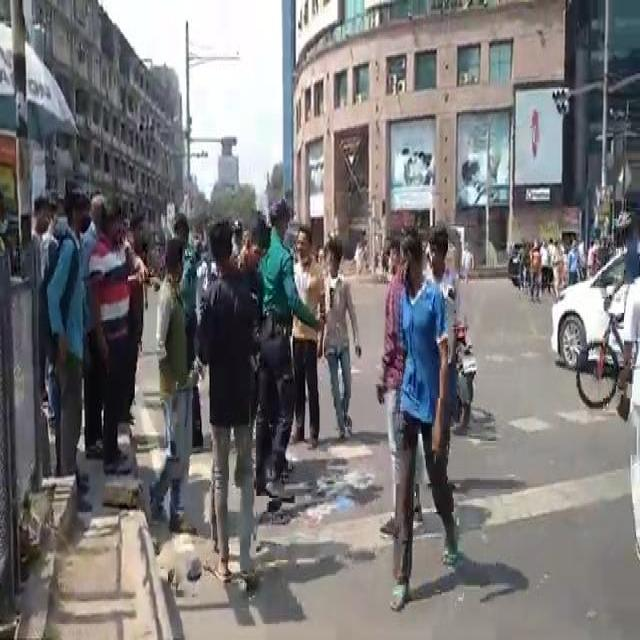fight: (39, 170, 147, 484), (258, 170, 356, 482), (374, 212, 460, 556)
